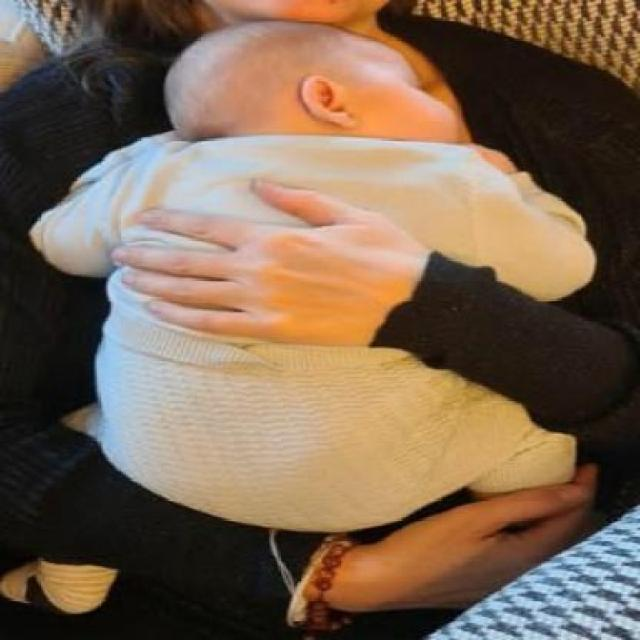baby: (27, 20, 596, 531)
